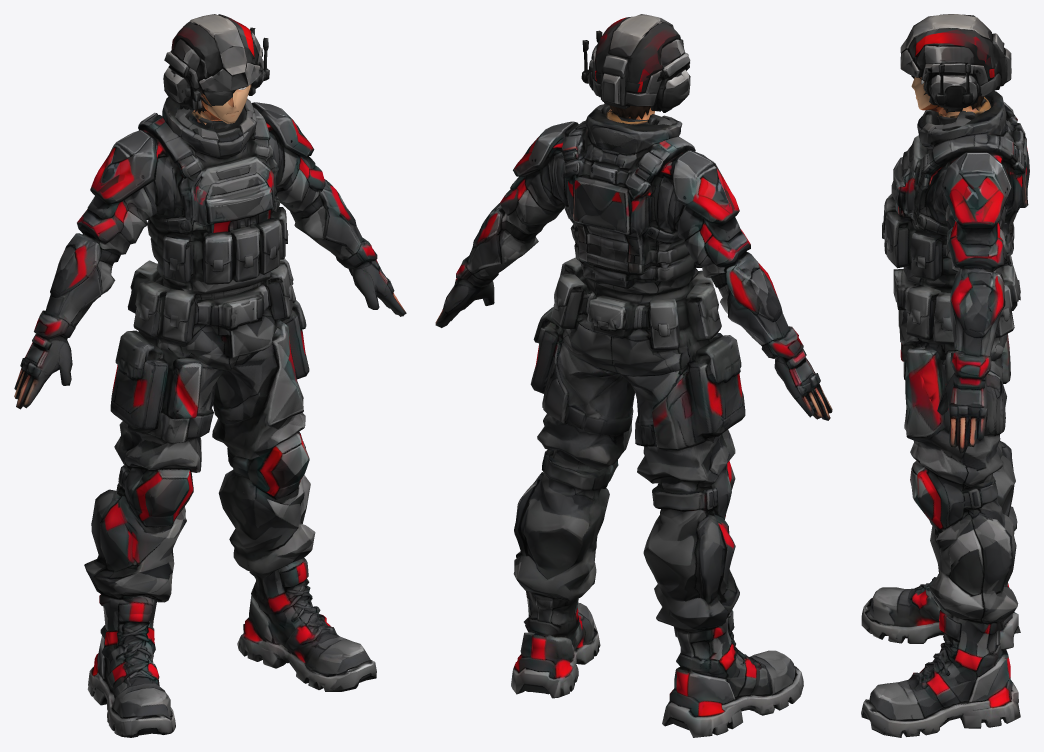
Rendered from MIRA.fbx.
The picture shows the model from 3 angles, left to right: view 1: azimuth 30°, elevation 25°; view 2: azimuth 150°, elevation 25°; view 3: azimuth 270°, elevation 25°; orthographic projection.
Visible parts, largest first — view 1: tripo_part_0.001, tripo_part_1, tripo_part_2.001, MIRA_Head, tripo_part_4.001; view 2: tripo_part_0.001, tripo_part_1, tripo_part_2.001, tripo_part_4.001, MIRA_Head, tripo_part_5; view 3: tripo_part_0.001, tripo_part_1, tripo_part_4.001, MIRA_Head.
Part boxes in pixels (left/top/right/bottom): tripo_part_0.001: left=84, top=300, right=376, bottom=737; tripo_part_1: left=127, top=97, right=295, bottom=370; tripo_part_2.001: left=14, top=130, right=170, bottom=409; MIRA_Head: left=163, top=14, right=269, bottom=140; tripo_part_4.001: left=251, top=102, right=406, bottom=316; tripo_part_0.001: left=511, top=307, right=803, bottom=737; tripo_part_1: left=551, top=108, right=721, bottom=376; tripo_part_2.001: left=658, top=147, right=832, bottom=420; tripo_part_4.001: left=435, top=121, right=578, bottom=327; MIRA_Head: left=581, top=14, right=690, bottom=125; tripo_part_5: left=591, top=127, right=637, bottom=154; tripo_part_0.001: left=861, top=334, right=1020, bottom=737; tripo_part_1: left=882, top=91, right=1029, bottom=361; tripo_part_4.001: left=936, top=152, right=1011, bottom=453; MIRA_Head: left=900, top=14, right=1011, bottom=142.
Bounding box in the file's own units: 0.5989 × 0.9803 × 0.2277.
6 materials, 6 textured.
